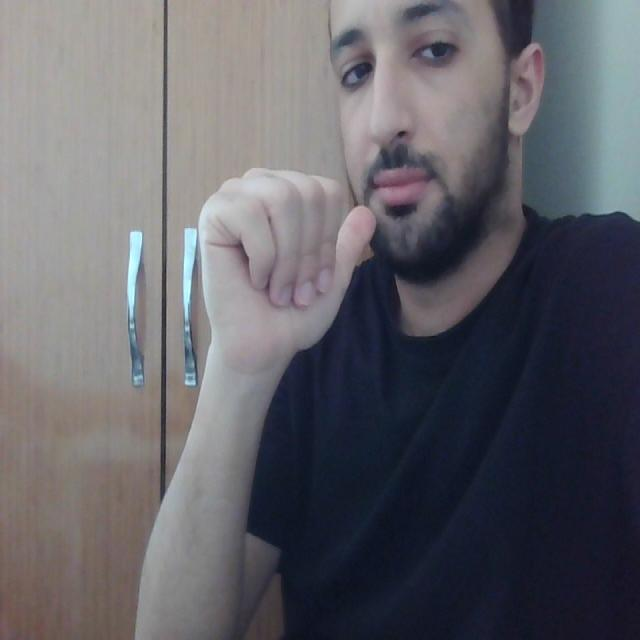icmek: (164, 132, 442, 344)
